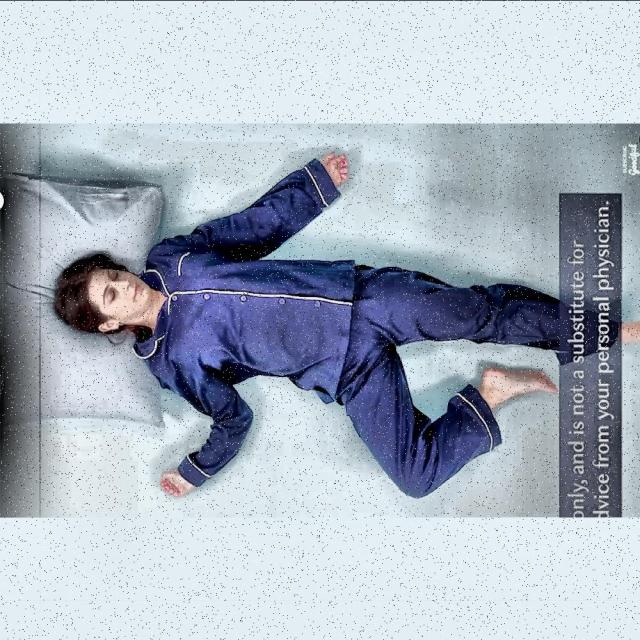Supine: (55, 154, 572, 497)
